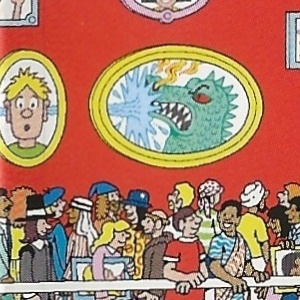Odlaw: (87, 122, 117, 178)
